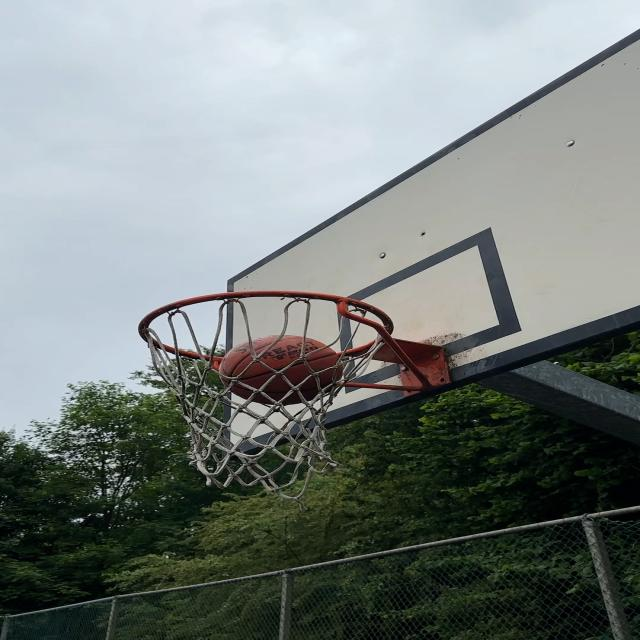Goal: (222, 335, 347, 408)
